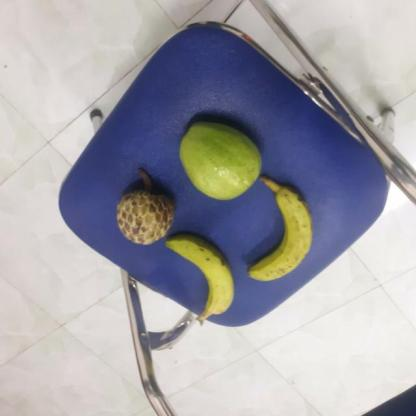annona: (116, 173, 178, 245)
banana: (245, 184, 319, 281), (167, 236, 239, 319)
guava: (179, 120, 265, 200)
